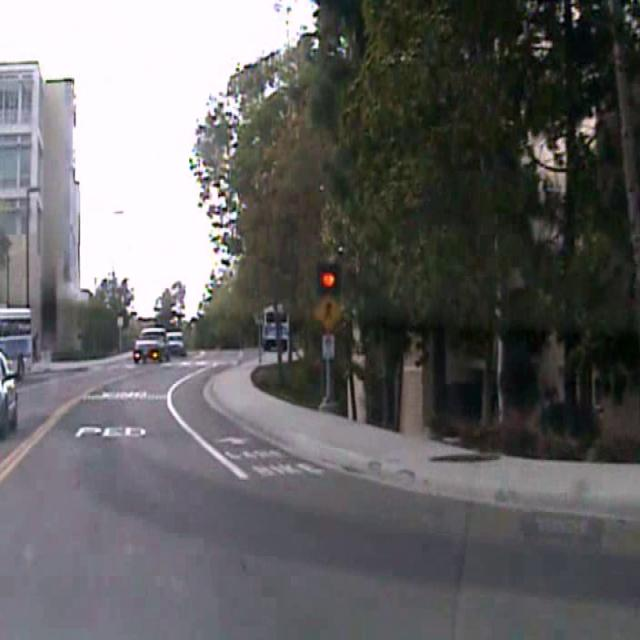pedestrianCrossing: (312, 292, 343, 333)
